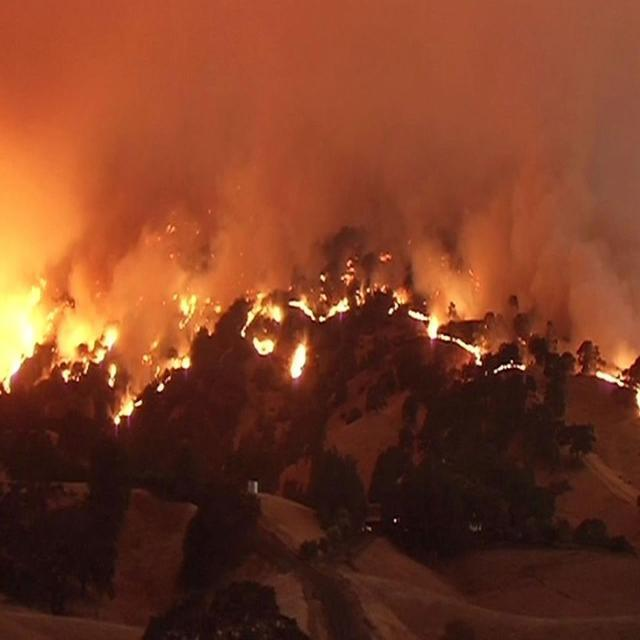Fire: (8, 273, 640, 398)
Smoke: (21, 47, 634, 357)
